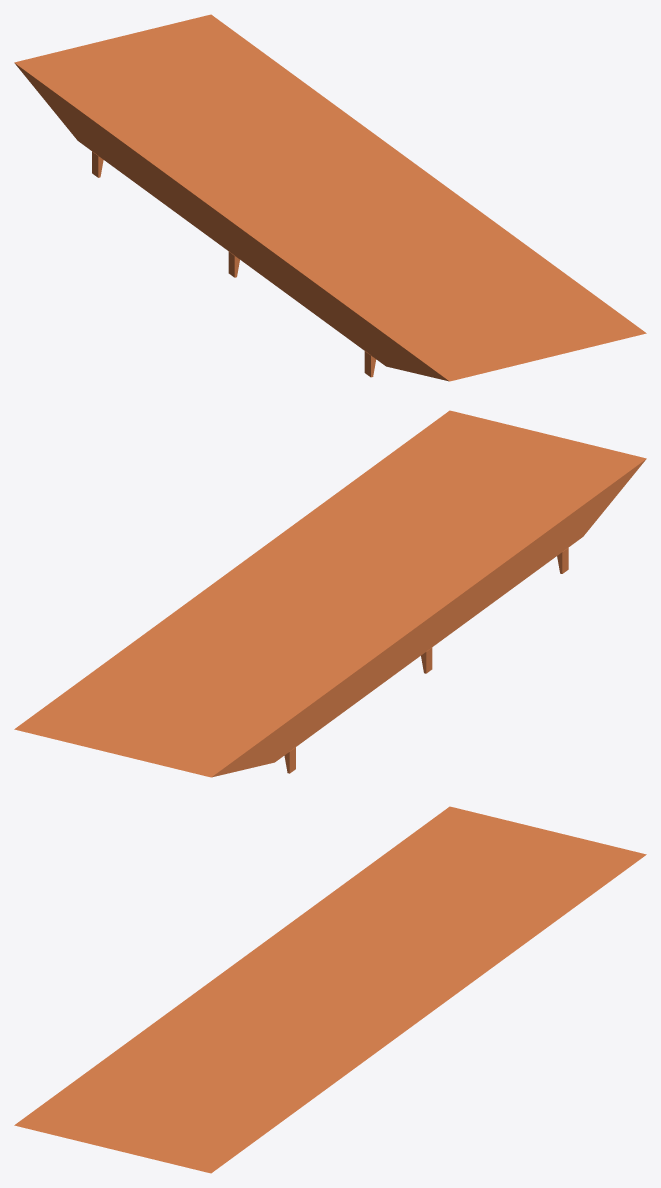
The model's file is shelf.fbx.
3 renders of one model, top to bottom at view 1: azimuth 30°, elevation 25°; view 2: azimuth 150°, elevation 25°; view 3: azimuth 330°, elevation 25°, orthographic.
Parts seen in each view (by area): view 1: shelf; view 2: shelf; view 3: shelf.
Part boxes in pixels (box(x1,y1,x2,y2)): shelf: box(14, 14, 646, 381); shelf: box(14, 410, 646, 777); shelf: box(14, 806, 646, 1173).
Size of the model in its own units: 84.58 by 21.87 by 323.
